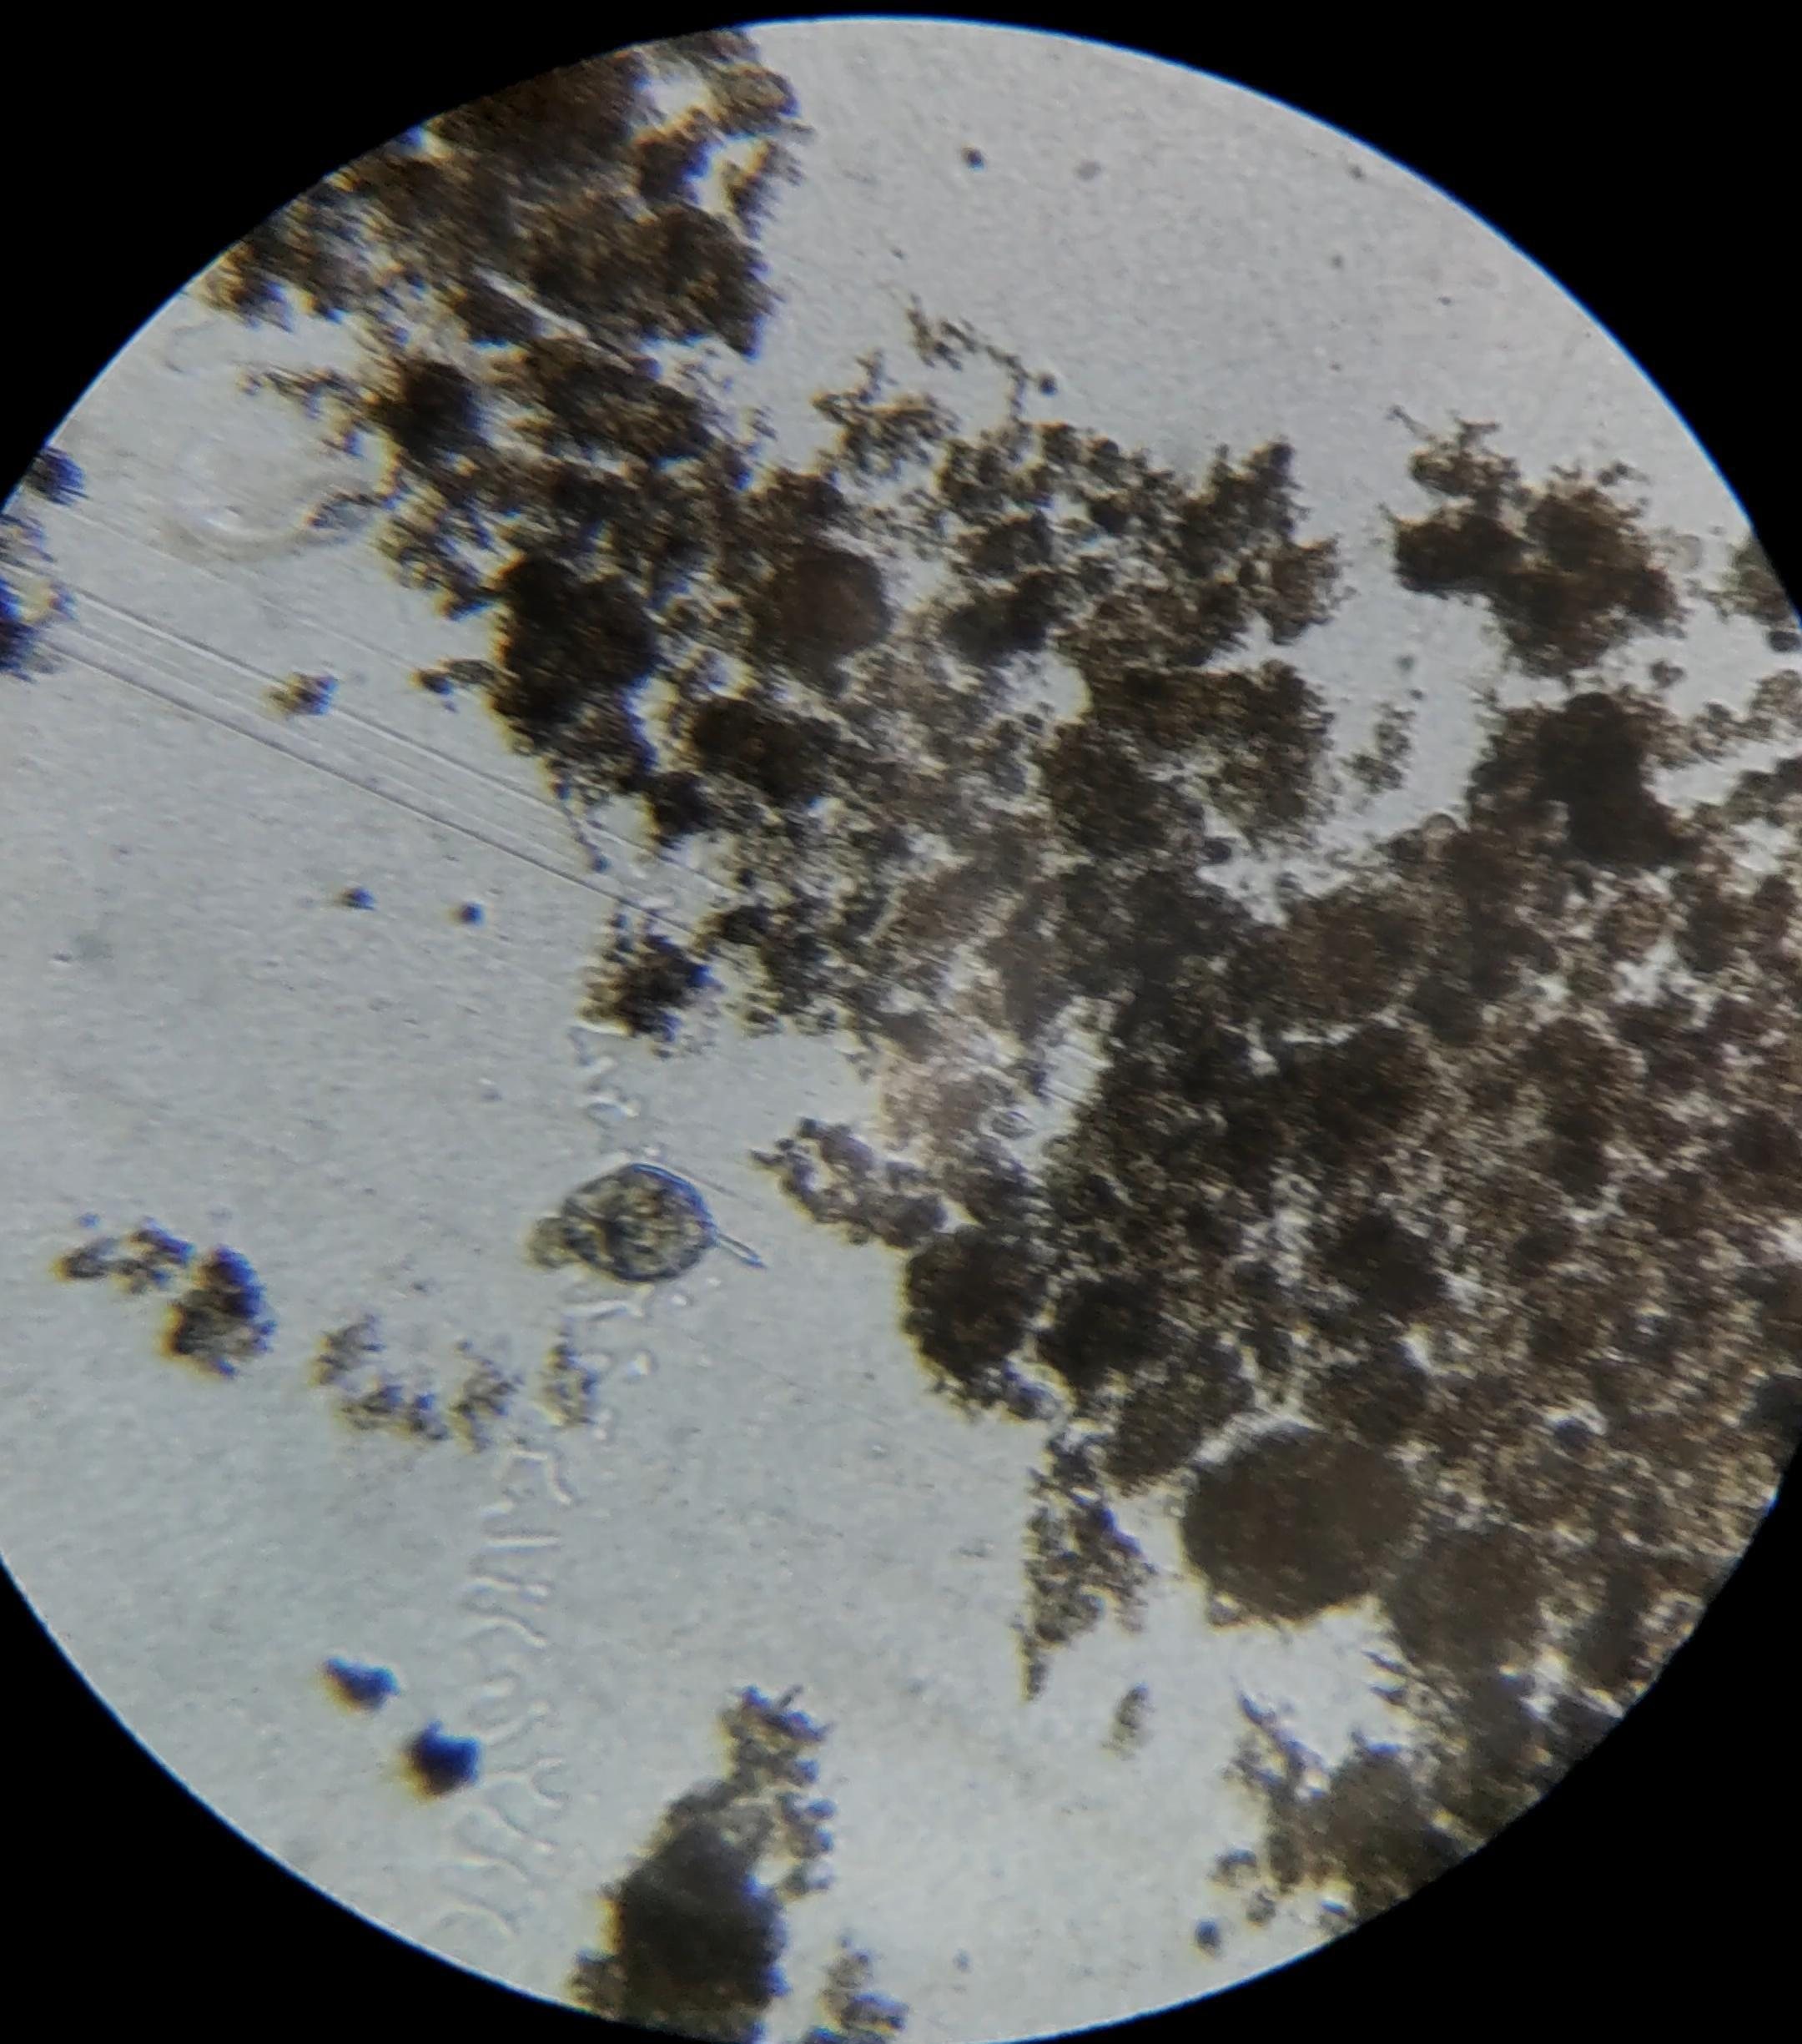Mo: (560, 1166, 772, 1282)
